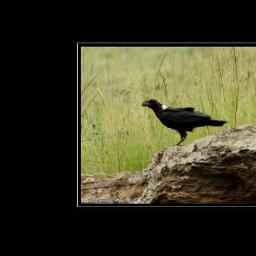Crow: (140, 98, 228, 146)
